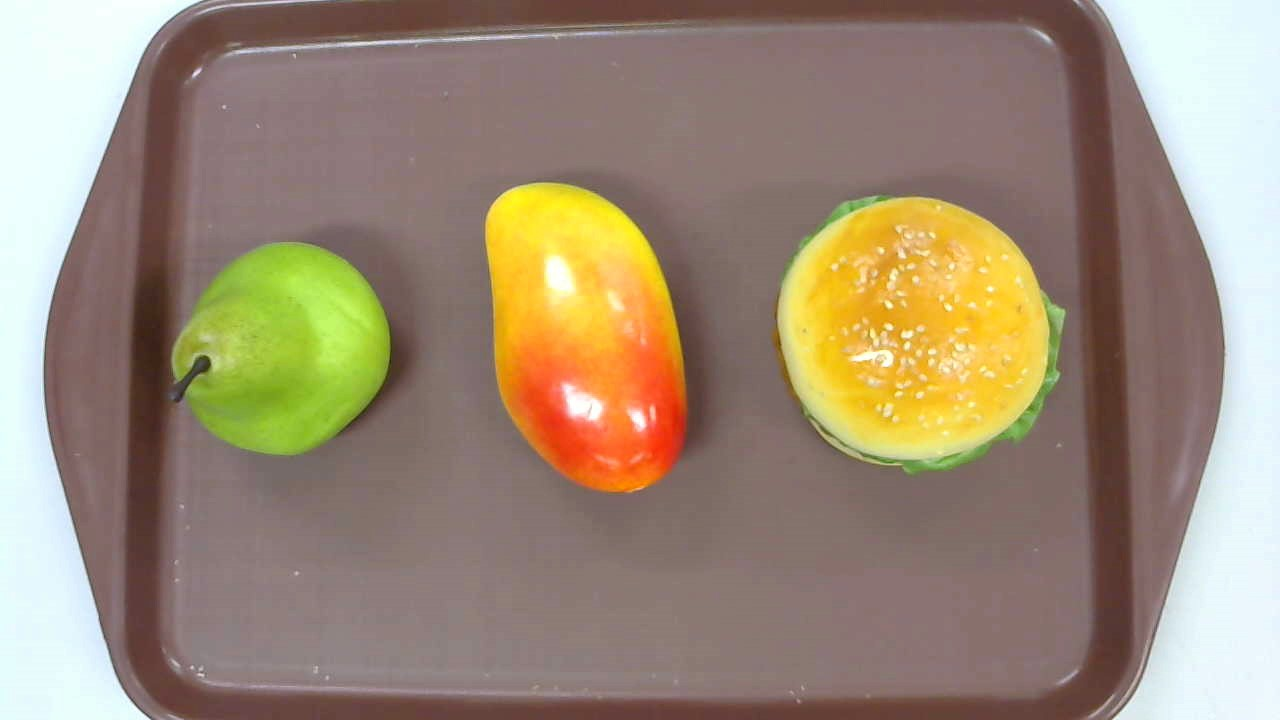green pear: (168, 241, 391, 456)
hamburger: (772, 195, 1066, 474)
red mango: (485, 182, 687, 493)
